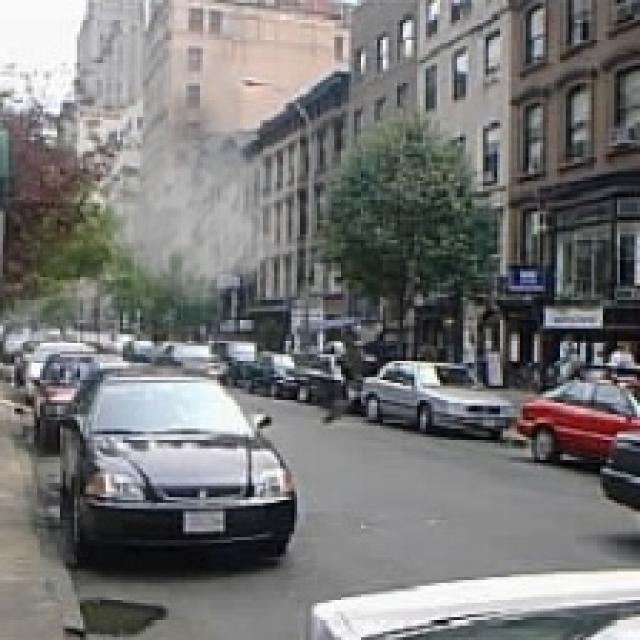Smoke: (88, 25, 294, 308)
